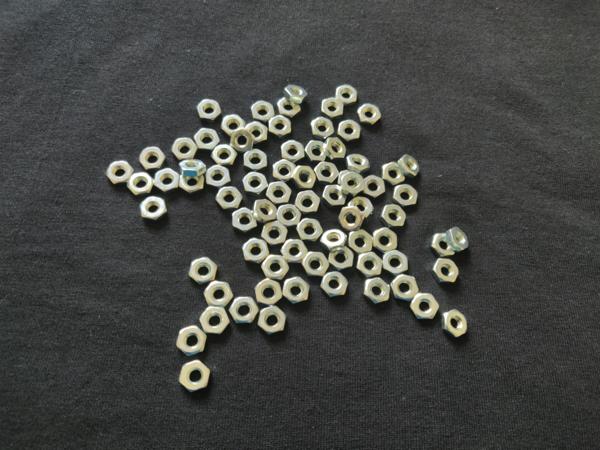nut: (179, 361, 212, 394), (175, 325, 208, 356), (257, 305, 288, 337), (200, 305, 231, 337), (187, 257, 220, 287), (441, 309, 470, 340), (229, 297, 260, 325), (282, 276, 310, 306), (411, 293, 438, 322), (320, 272, 350, 298), (362, 277, 392, 303), (262, 254, 290, 281), (281, 239, 308, 267), (138, 145, 167, 171), (215, 185, 243, 211), (242, 237, 270, 263), (255, 279, 283, 305), (205, 282, 233, 308), (302, 252, 330, 278), (261, 220, 289, 246), (106, 161, 135, 186), (139, 195, 168, 220), (432, 258, 459, 284), (155, 168, 181, 195), (430, 233, 457, 259), (392, 275, 419, 301), (296, 218, 324, 243), (295, 189, 323, 214), (382, 249, 410, 274), (347, 231, 375, 256), (128, 172, 154, 198), (231, 128, 257, 154), (231, 208, 258, 233), (381, 203, 407, 228), (361, 174, 387, 199), (243, 170, 268, 196), (310, 116, 336, 141), (329, 247, 354, 272), (358, 252, 383, 277), (267, 181, 293, 205), (381, 161, 407, 185), (250, 99, 277, 122), (447, 227, 469, 255), (204, 165, 232, 187), (339, 207, 365, 230), (253, 200, 277, 224), (358, 102, 383, 125), (305, 140, 330, 163), (273, 158, 298, 181), (197, 98, 222, 121), (173, 137, 198, 160), (243, 149, 269, 171), (212, 144, 238, 166), (324, 185, 347, 209), (280, 139, 305, 161), (221, 114, 246, 136), (293, 167, 318, 189), (338, 120, 361, 143), (195, 128, 219, 150), (269, 115, 293, 137), (394, 185, 418, 207), (341, 171, 363, 195), (314, 162, 339, 183), (325, 137, 347, 160), (398, 155, 420, 178), (350, 196, 374, 217), (277, 97, 302, 117), (321, 229, 347, 248), (336, 84, 358, 106), (277, 205, 299, 227), (245, 122, 268, 143), (178, 160, 206, 177), (283, 86, 309, 104), (346, 155, 372, 173), (321, 98, 345, 117), (180, 176, 205, 194)
